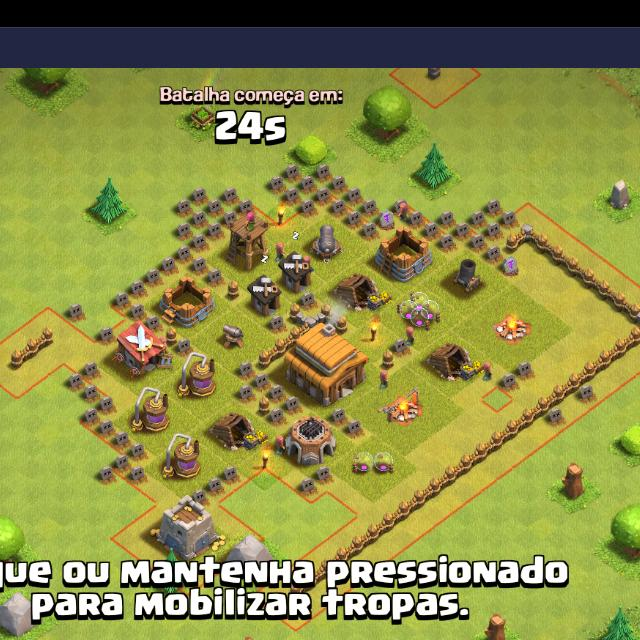Arqueira: (230, 213, 270, 272)
Canhao: (311, 224, 341, 260), (218, 322, 248, 351)
